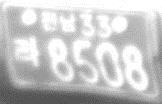0: (94, 40, 124, 87)
3: (94, 14, 111, 39), (79, 13, 94, 39)
5: (72, 39, 99, 83)
8: (120, 44, 150, 90), (47, 37, 74, 83)
라: (13, 34, 41, 68)
전남_O: (39, 10, 77, 34)
